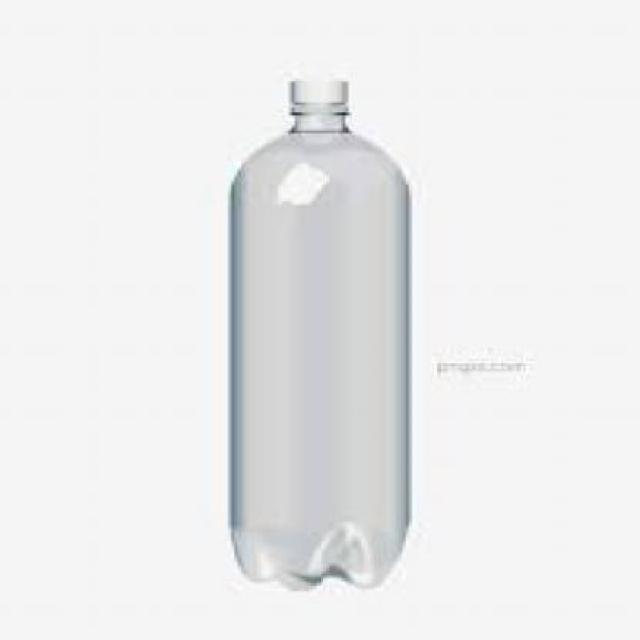kaca: (228, 103, 409, 585)
